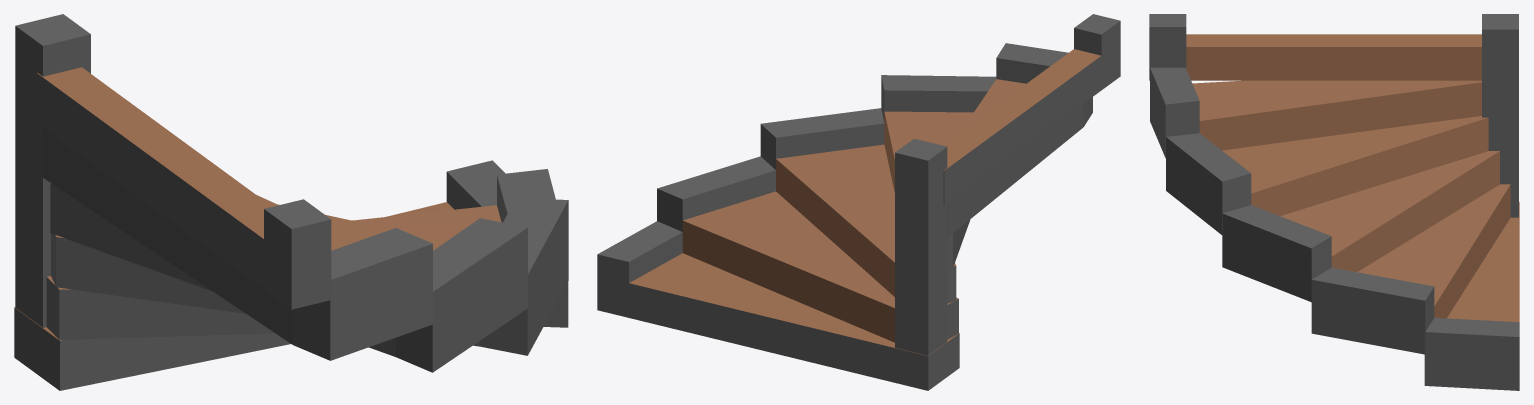
The model's file is road_corner_incline.fbx.
3 renders of one model, left to right at view 1: azimuth 30°, elevation 25°; view 2: azimuth 150°, elevation 25°; view 3: azimuth 270°, elevation 25°, orthographic. The views are drawn at different scales.
Visible parts, largest first — view 1: Cube.016; view 2: Cube.016; view 3: Cube.016.
Boxes of the visible parts, x1,y1,x2,y2 form: Cube.016: [14, 14, 568, 390]; Cube.016: [597, 14, 1120, 390]; Cube.016: [1149, 14, 1519, 390].
Size of the model in its own units: 99.59 by 66.09 by 100.
